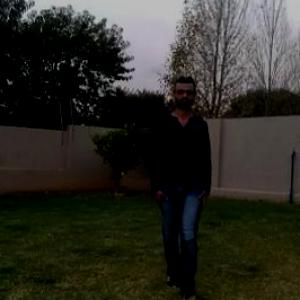follow: (157, 92, 206, 291)
